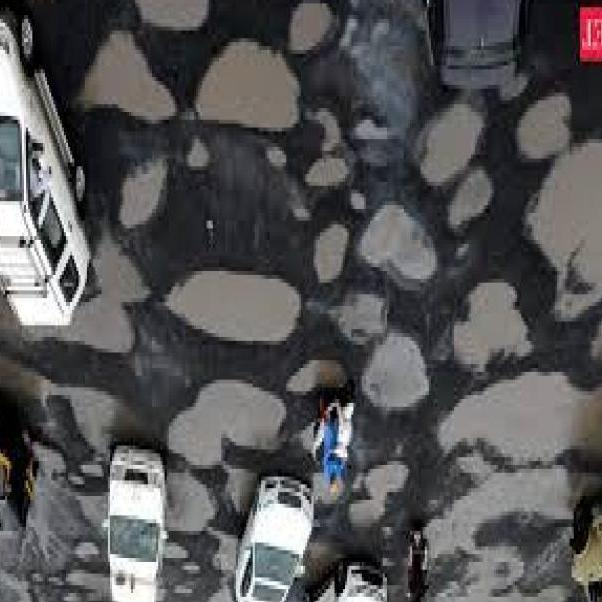pothole: (423, 450, 600, 602), (439, 369, 602, 470), (40, 228, 155, 355), (525, 139, 602, 325), (165, 273, 304, 343), (191, 41, 304, 127), (169, 382, 283, 467), (79, 26, 176, 120), (449, 279, 536, 374), (361, 200, 437, 284), (418, 100, 490, 184), (361, 332, 428, 412), (347, 461, 409, 525), (160, 470, 216, 538), (520, 91, 572, 160), (122, 155, 167, 226), (446, 169, 487, 227), (287, 0, 333, 51), (132, 0, 210, 30), (340, 285, 381, 342), (286, 361, 345, 397), (311, 225, 345, 282), (212, 528, 243, 575), (308, 156, 343, 187), (155, 532, 185, 565), (589, 323, 602, 363), (213, 580, 233, 602)
